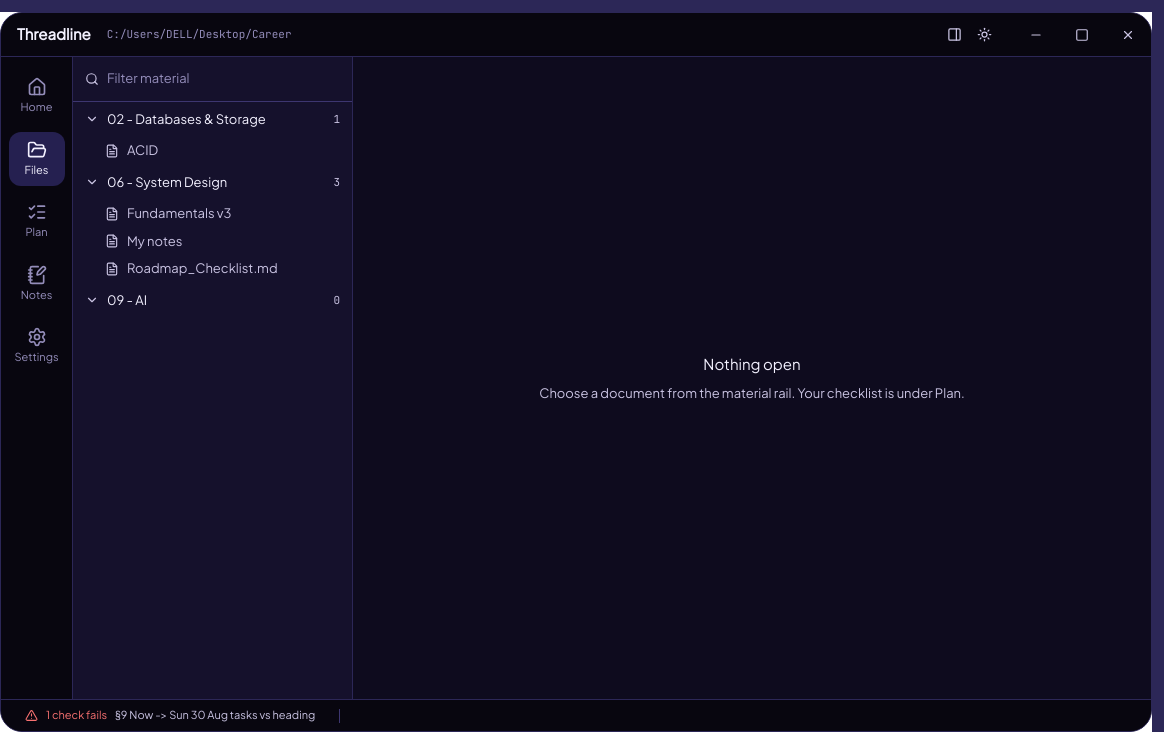
Scenario: the workbench › tabs › ticks a section from the PDF record and moves both counts
The width and height of the screenshot is (1164, 732).
Expected: the button "06 - System Design 3" is shown, [73, 164, 352, 200]
What coordinates should you click on to do the following:
click the button "Fundamentals v3"
I would click on:
 (212, 214)
Its box is [73, 200, 352, 228].
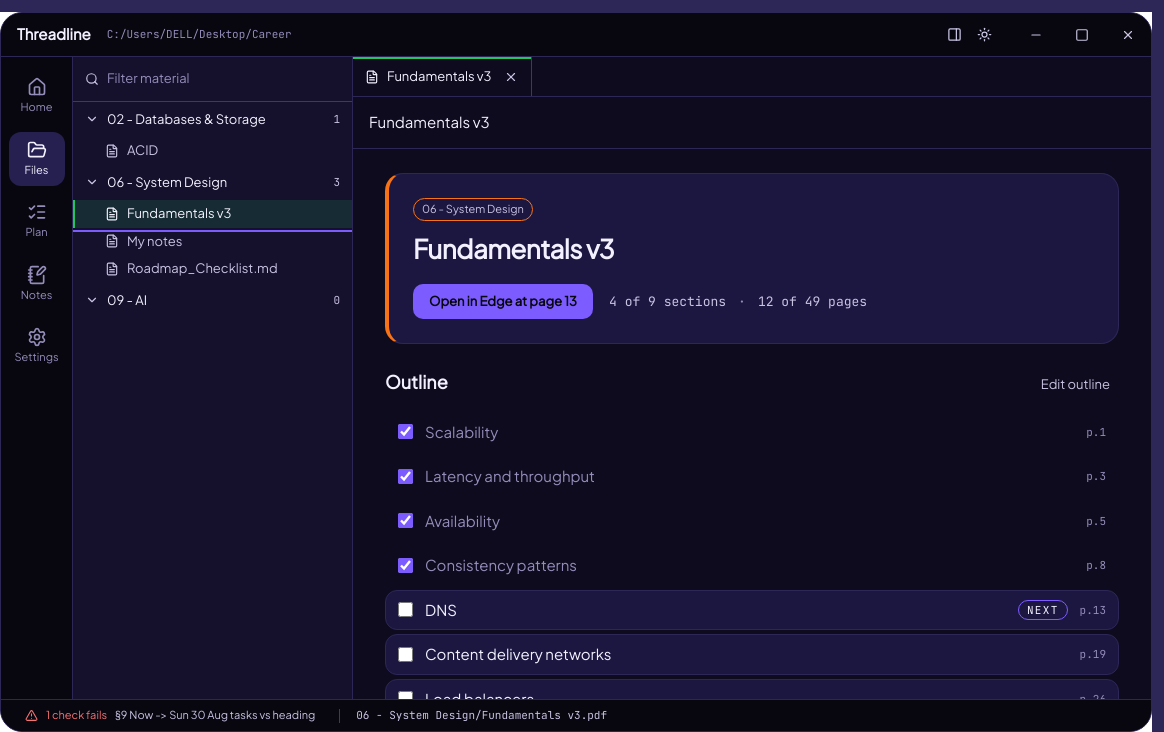
Expected: the text "4 of 9 sections" is shown, [609, 292, 726, 311]
Expected: the text "12 of 49 pages" is shown, [758, 292, 867, 310]
DNS runs from page 13 to 18: six pages.
What coordinates should you click on to do the following:
click the checkbox labelled "DNS"
I would click on:
 (406, 610)
Its box is [398, 602, 413, 617].
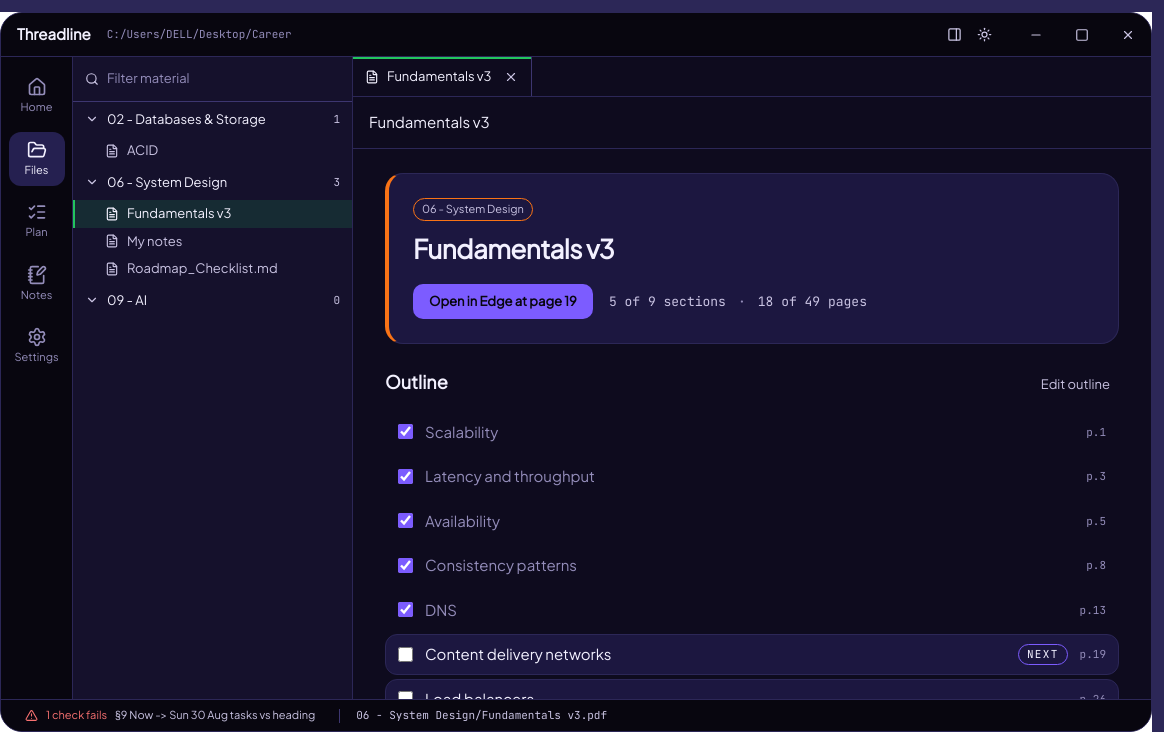
Expected: the text "5 of 9 sections" is shown, [609, 292, 726, 311]
Expected: the text "18 of 49 pages" is shown, [758, 292, 867, 310]
Expected: the button "Open in Edge at page 19" is shown, [413, 284, 593, 319]
